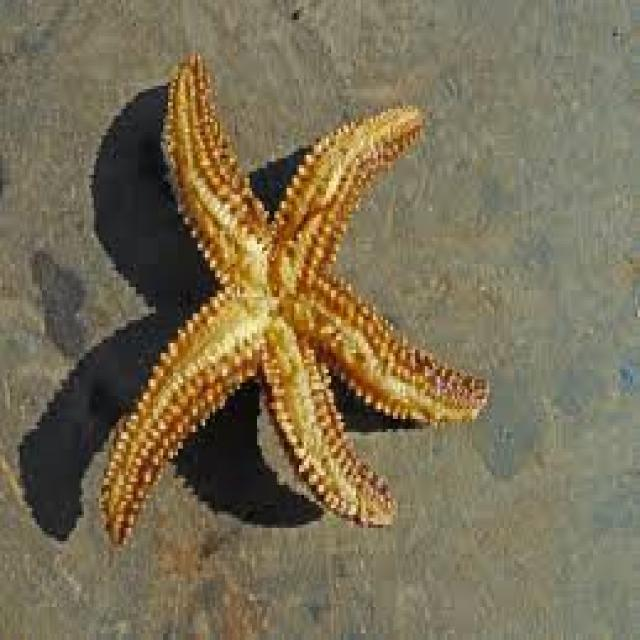starfish: (101, 53, 487, 541)
